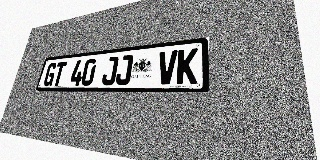0: (80, 58, 97, 86)
4: (69, 60, 86, 86)
G: (43, 62, 58, 86)
J: (115, 55, 134, 85), (101, 56, 119, 85)
K: (176, 48, 198, 84)
T: (52, 61, 67, 86)
V: (157, 50, 178, 85)
